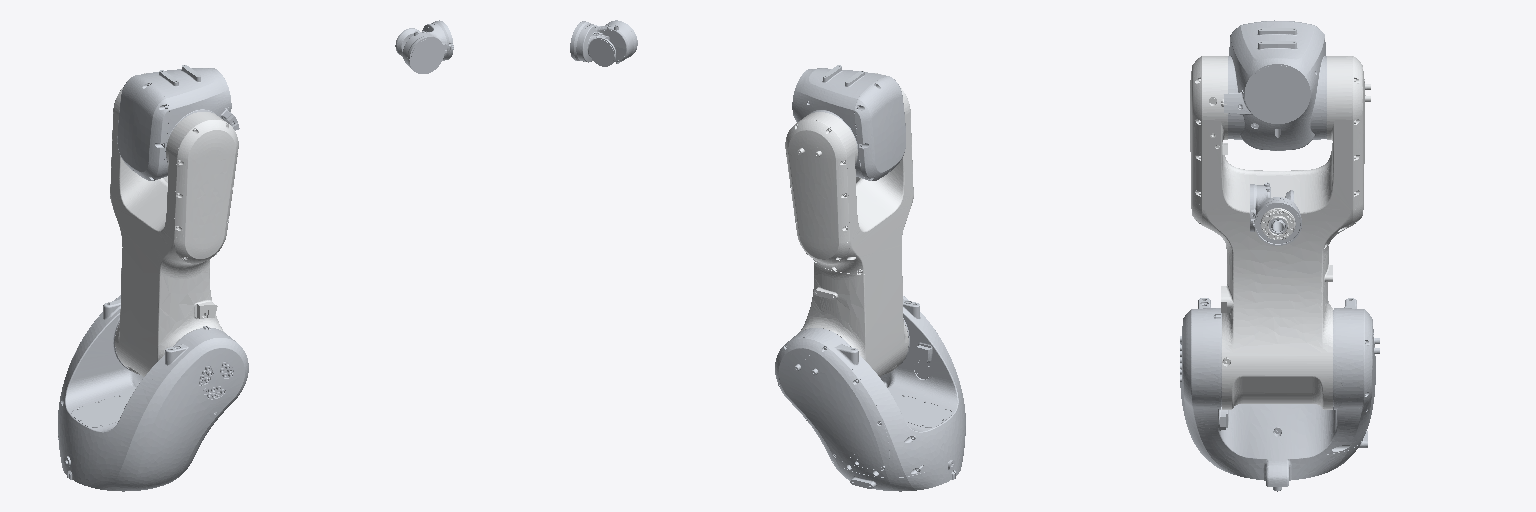
URDF robot description (IR-R15H-145S5-C1NH-INT_01741446):
<?xml version="1.0"?>
<!-- Firmware source: params_package/Standard/Body/IR-R15H-145S5-C1NH-INT_01741446/IR-R15H-145S5-C1NH-INT_01741446.json; SHA256 5aad5037eb193af4b577ae3b894b8cafb249ab648133211f2a7213e0220be428. -->
<!-- Z-up; STL mm scaled to m. Effective firmware mass properties are SI and transformed into CAD link frames. -->
<!-- Revolute effort is nominal output torque; prismatic effort is ideal screw force. See physics-audit.json for approximations. -->
<robot name="IR-R15H-145S5-C1NH-INT_01741446">
  <link name="base_link">

    <visual name="base">
      <origin xyz="0 0 0" rpy="0 0 0"/>
      <geometry>
        <mesh filename="../models/IR-R15H-145/P0.stl" scale="0.001 0.001 0.001"/>
      </geometry>
      <material name="base_material">
        <color rgba="0.31 0.35 0.41 1"/>
      </material>
    </visual>
    <collision name="base_collision">
      <origin xyz="0 0 0" rpy="0 0 0"/>
      <geometry>
        <mesh filename="../models/IR-R15H-145/P0.stl" scale="0.001 0.001 0.001"/>
      </geometry>
    </collision>
  </link>

  <link name="link_1">

    <!-- inertial source: bounding-box-fallback -->
    <!-- Effective firmware principal moments are not physically realizable; no unit guessing applied -->
    <inertial>
      <origin xyz="0.048762664795 0.004947761536 0.407161254883" rpy="0 0 0"/>
      <mass value="46.858942412262"/>
      <inertia ixx="1.353415968912" ixy="0" ixz="0" iyy="1.331756180531" iyz="0" izz="1.383059986295"/>
    </inertial>

    <visual name="link_1">
      <origin xyz="0 0 0" rpy="0 0 0"/>
      <geometry>
        <mesh filename="../models/IR-R15H-145/P1.stl" scale="0.001 0.001 0.001"/>
      </geometry>
      <material name="link_1_material">
        <color rgba="0.84 0.86 0.89 1"/>
      </material>
    </visual>
    <collision name="link_1_collision">
      <origin xyz="0 0 0" rpy="0 0 0"/>
      <geometry>
        <mesh filename="../models/IR-R15H-145/P1.stl" scale="0.001 0.001 0.001"/>
      </geometry>
    </collision>
  </link>

  <link name="link_2">

    <!-- inertial source: bounding-box-fallback -->
    <!-- Effective firmware principal moments are not physically realizable; no unit guessing applied -->
    <inertial>
      <origin xyz="-0.000044857025 0.006169631958 0.295749465942" rpy="0 0 0"/>
      <mass value="43.407"/>
      <inertia ixx="2.885561088942" ixy="0" ixz="0" iyy="2.52045231087" iyz="0" izz="0.699778181367"/>
    </inertial>

    <visual name="link_2">
      <origin xyz="-0.15 0 -0.5" rpy="0 0 0"/>
      <geometry>
        <mesh filename="../models/IR-R15H-145/P2.stl" scale="0.001 0.001 0.001"/>
      </geometry>
      <material name="link_2_material">
        <color rgba="0.94 0.95 0.96 1"/>
      </material>
    </visual>
    <collision name="link_2_collision">
      <origin xyz="-0.15 0 -0.5" rpy="0 0 0"/>
      <geometry>
        <mesh filename="../models/IR-R15H-145/P2.stl" scale="0.001 0.001 0.001"/>
      </geometry>
    </collision>
  </link>

  <link name="link_3">

    <!-- inertial source: firmware-effective-si -->
    <inertial>
      <origin xyz="0.124256079411 -0.009219184566 0.17878" rpy="0 0 0"/>
      <mass value="7.777"/>
      <inertia ixx="0.076343317639" ixy="0" ixz="0" iyy="0.074473244367" iyz="0" izz="0.008370004675"/>
    </inertial>

    <visual name="link_3">
      <origin xyz="-0.15 0 -1.11" rpy="0 0 0"/>
      <geometry>
        <mesh filename="../models/IR-R15H-145/P3.stl" scale="0.001 0.001 0.001"/>
      </geometry>
      <material name="link_3_material">
        <color rgba="0.84 0.86 0.89 1"/>
      </material>
    </visual>
    <collision name="link_3_collision">
      <origin xyz="-0.15 0 -1.11" rpy="0 0 0"/>
      <geometry>
        <mesh filename="../models/IR-R15H-145/P3.stl" scale="0.001 0.001 0.001"/>
      </geometry>
    </collision>
  </link>

  <link name="link_4">

    <!-- inertial source: bounding-box-fallback -->
    <!-- Effective firmware principal moments are not physically realizable; no unit guessing applied -->
    <inertial>
      <origin xyz="0.434989685059 0.000022834778 0.010499023437" rpy="0 0 0"/>
      <mass value="7.693"/>
      <inertia ixx="0.039166979781" ixy="0" ixz="0" iyy="0.269434322678" iyz="0" izz="0.275365453924"/>
    </inertial>

    <visual name="link_4">
      <origin xyz="-0.15 0 -1.175" rpy="0 0 0"/>
      <geometry>
        <mesh filename="../models/IR-R15H-145/P4.stl" scale="0.001 0.001 0.001"/>
      </geometry>
      <material name="link_4_material">
        <color rgba="0.94 0.95 0.96 1"/>
      </material>
    </visual>
    <collision name="link_4_collision">
      <origin xyz="-0.15 0 -1.175" rpy="0 0 0"/>
      <geometry>
        <mesh filename="../models/IR-R15H-145/P4.stl" scale="0.001 0.001 0.001"/>
      </geometry>
    </collision>
  </link>

  <link name="link_5">

    <!-- inertial source: bounding-box-fallback -->
    <!-- Effective firmware principal moments are not physically realizable; no unit guessing applied -->
    <inertial>
      <origin xyz="0.021596557617 -0.003754055023 -0.000253723145" rpy="0 0 0"/>
      <mass value="1.817585955358"/>
      <inertia ixx="0.003535504081" ixy="0" ixz="0" iyy="0.00483721824" iyz="0" izz="0.005000018038"/>
    </inertial>

    <visual name="link_5">
      <origin xyz="-0.842 0 -1.175" rpy="0 0 0"/>
      <geometry>
        <mesh filename="../models/IR-R15H-145/P5.stl" scale="0.001 0.001 0.001"/>
      </geometry>
      <material name="link_5_material">
        <color rgba="0.84 0.86 0.89 1"/>
      </material>
    </visual>
    <collision name="link_5_collision">
      <origin xyz="-0.842 0 -1.175" rpy="0 0 0"/>
      <geometry>
        <mesh filename="../models/IR-R15H-145/P5.stl" scale="0.001 0.001 0.001"/>
      </geometry>
    </collision>
  </link>

  <link name="link_6">

    <!-- inertial source: bounding-box-fallback -->
    <!-- Effective firmware principal moments are not physically realizable; no unit guessing applied -->
    <inertial>
      <origin xyz="-0.005001342773 0.000986606598 -0.000006164551" rpy="0 0 0"/>
      <mass value="0.642122129581"/>
      <inertia ixx="0.000586473906" ixy="0" ixz="0" iyy="0.000329667033" iyz="0" izz="0.000329170976"/>
    </inertial>

    <visual name="link_6">
      <origin xyz="-0.928 0 -1.175" rpy="0 0 0"/>
      <geometry>
        <mesh filename="../models/IR-R15H-145/P6.stl" scale="0.001 0.001 0.001"/>
      </geometry>
      <material name="link_6_material">
        <color rgba="0.94 0.95 0.96 1"/>
      </material>
    </visual>
    <collision name="link_6_collision">
      <origin xyz="-0.928 0 -1.175" rpy="0 0 0"/>
      <geometry>
        <mesh filename="../models/IR-R15H-145/P6.stl" scale="0.001 0.001 0.001"/>
      </geometry>
    </collision>
  </link>

  <joint name="J1" type="revolute">
    <parent link="base_link"/>
    <child link="link_1"/>
    <origin xyz="0 0 0" rpy="0 0 0"/>
    <axis xyz="0 0 1"/>
    <limit lower="-2.96705972839" upper="2.96705972839" effort="690.9" velocity="4.537856055185"/>
  </joint>

  <joint name="J2" type="revolute">
    <parent link="link_1"/>
    <child link="link_2"/>
    <origin xyz="0.15 0 0.5" rpy="0 0 0"/>
    <axis xyz="0 -1 0"/>
    <limit lower="-2.792526803191" upper="1.570796326795" effort="686" velocity="4.188790204786"/>
  </joint>

  <joint name="J3" type="revolute">
    <parent link="link_2"/>
    <child link="link_3"/>
    <origin xyz="0 0 0.61" rpy="0 0 0"/>
    <axis xyz="0 -1 0"/>
    <limit lower="-1.326450231516" upper="3.665191429188" effort="362.98125" velocity="4.537856055185"/>
  </joint>

  <joint name="J4" type="revolute">
    <parent link="link_3"/>
    <child link="link_4"/>
    <origin xyz="0 0 0.065" rpy="0 0 0"/>
    <axis xyz="1 0 0"/>
    <limit lower="-3.316125578789" upper="3.316125578789" effort="75.31354" velocity="8.203047484373"/>
  </joint>

  <joint name="J5" type="revolute">
    <parent link="link_4"/>
    <child link="link_5"/>
    <origin xyz="0.692 0 0" rpy="0 0 0"/>
    <axis xyz="0 -1 0"/>
    <limit lower="-2.443460952792" upper="2.443460952792" effort="59.34528" velocity="7.853981633974"/>
  </joint>

  <joint name="J6" type="revolute">
    <parent link="link_5"/>
    <child link="link_6"/>
    <origin xyz="0.086 0 0" rpy="0 0 0"/>
    <axis xyz="1 0 0"/>
    <limit lower="-6.28318530718" upper="6.28318530718" effort="37.8624" velocity="12.30457122656"/>
  </joint>

  <link name="tool0"/>
  <joint name="tool0_fixed" type="fixed">
    <parent link="link_6"/>
    <child link="tool0"/>
    <origin xyz="0 0 0" rpy="3.14159265359 -1.570796326795 0"/>
  </joint>
</robot>

--- Render facts (derived) ---
3 views of the same robot in one strip: view 1: azimuth 30°, elevation 25°; view 2: azimuth 150°, elevation 25°; view 3: azimuth 270°, elevation 25° (orthographic).
Model IR-R15H-145S5-C1NH-INT_01741446 with 8 links and 7 joints (6 revolute, 1 fixed), rooted at base_link, posed all joints at 0.
Visible links, largest first — view 1: link_1, link_2, link_3, link_5; view 2: link_1, link_2, link_3, link_5; view 3: link_2, link_1, link_3, link_5, link_6.
Boxes of the visible links, <box> form: link_1: <box>58,295,248,491</box>; link_2: <box>110,73,238,376</box>; link_3: <box>117,65,239,180</box>; link_5: <box>395,20,453,73</box>; link_1: <box>775,296,965,491</box>; link_2: <box>785,73,913,376</box>; link_3: <box>792,65,905,180</box>; link_5: <box>570,20,637,66</box>; link_2: <box>1190,56,1370,409</box>; link_1: <box>1180,298,1379,491</box>; link_3: <box>1224,20,1326,150</box>; link_5: <box>1250,182,1301,245</box>; link_6: <box>1261,208,1295,239</box>.
Bounding box of the posed robot: 1.1 × 0.4241 × 1.06 m (x, y, z).
Meshes: 7 distinct files referenced, 5 mesh visuals loaded (5 binary STL); not drawn: 2 (reference not matched to a file when rendering).
